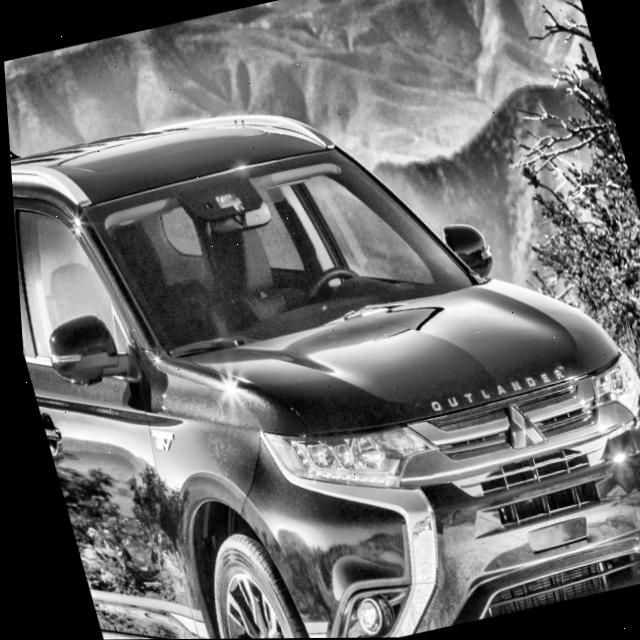light_vehicle: (1, 23, 640, 640)
